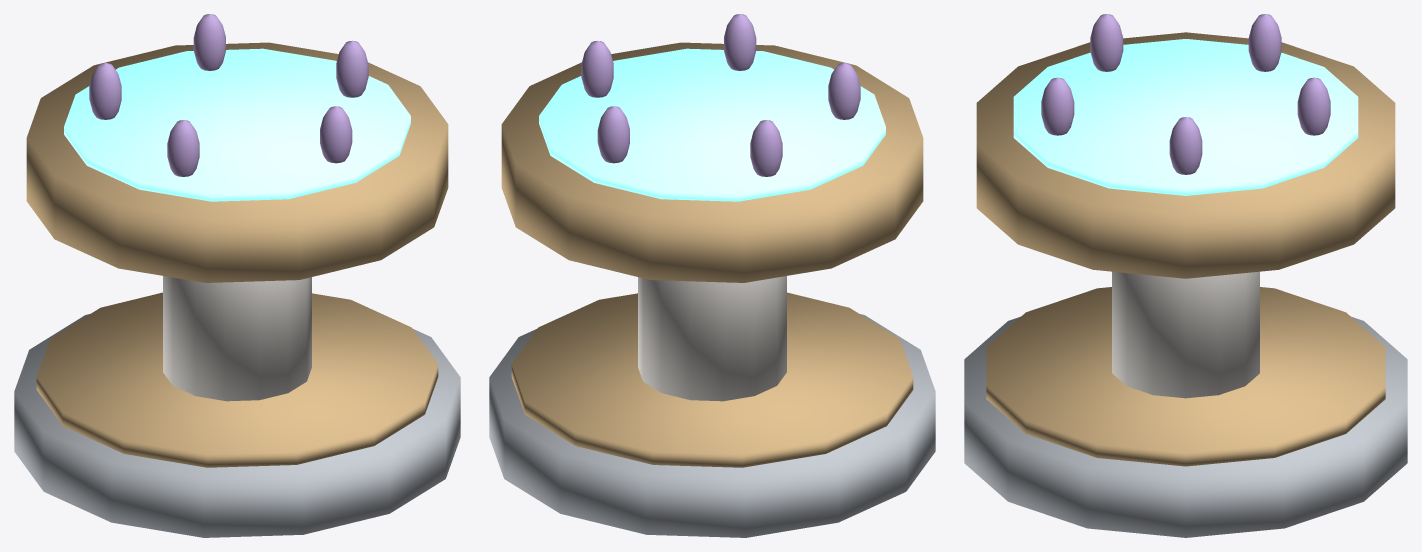
The model's file is int_echo_bowl.glb.
The picture shows the model from 3 angles, left to right: view 1: azimuth 30°, elevation 25°; view 2: azimuth 150°, elevation 25°; view 3: azimuth 270°, elevation 25°; orthographic projection.
Visible parts, largest first — view 1: INT_echo_bowl_gold_bowl, INT_echo_bowl_gold, INT_echo_bowl_aether_water, INT_echo_bowl_base, INT_echo_bowl_stand, INT_echo_bowl_surface_note_0, INT_echo_bowl_surface_note_1, INT_echo_bowl_surface_note_2, INT_echo_bowl_surface_note_4, INT_echo_bowl_surface_note_3; view 2: INT_echo_bowl_gold_bowl, INT_echo_bowl_gold, INT_echo_bowl_aether_water, INT_echo_bowl_base, INT_echo_bowl_stand, INT_echo_bowl_surface_note_0, INT_echo_bowl_surface_note_4, INT_echo_bowl_surface_note_1, INT_echo_bowl_surface_note_3, INT_echo_bowl_surface_note_2; view 3: INT_echo_bowl_gold_bowl, INT_echo_bowl_gold, INT_echo_bowl_aether_water, INT_echo_bowl_base, INT_echo_bowl_stand, INT_echo_bowl_surface_note_0, INT_echo_bowl_surface_note_1, INT_echo_bowl_surface_note_2, INT_echo_bowl_surface_note_3, INT_echo_bowl_surface_note_4.
Part boxes in pixels (left/top/right/bottom): INT_echo_bowl_gold_bowl: left=26, top=42, right=448, bottom=282; INT_echo_bowl_gold: left=36, top=292, right=438, bottom=467; INT_echo_bowl_aether_water: left=64, top=48, right=410, bottom=201; INT_echo_bowl_base: left=14, top=314, right=460, bottom=537; INT_echo_bowl_stand: left=163, top=276, right=311, bottom=401; INT_echo_bowl_surface_note_0: left=336, top=40, right=368, bottom=97; INT_echo_bowl_surface_note_1: left=193, top=14, right=225, bottom=70; INT_echo_bowl_surface_note_2: left=89, top=63, right=121, bottom=119; INT_echo_bowl_surface_note_4: left=320, top=106, right=352, bottom=163; INT_echo_bowl_surface_note_3: left=167, top=120, right=199, bottom=176; INT_echo_bowl_gold_bowl: left=501, top=42, right=923, bottom=282; INT_echo_bowl_gold: left=511, top=292, right=913, bottom=467; INT_echo_bowl_aether_water: left=539, top=48, right=885, bottom=201; INT_echo_bowl_base: left=489, top=314, right=935, bottom=537; INT_echo_bowl_stand: left=638, top=276, right=786, bottom=401; INT_echo_bowl_surface_note_0: left=581, top=40, right=613, bottom=97; INT_echo_bowl_surface_note_4: left=724, top=14, right=756, bottom=70; INT_echo_bowl_surface_note_1: left=597, top=106, right=629, bottom=163; INT_echo_bowl_surface_note_3: left=828, top=63, right=860, bottom=119; INT_echo_bowl_surface_note_2: left=750, top=120, right=782, bottom=176; INT_echo_bowl_gold_bowl: left=976, top=32, right=1395, bottom=278; INT_echo_bowl_gold: left=986, top=287, right=1385, bottom=466; INT_echo_bowl_aether_water: left=1013, top=39, right=1358, bottom=195; INT_echo_bowl_base: left=964, top=316, right=1407, bottom=537; INT_echo_bowl_stand: left=1112, top=271, right=1259, bottom=398; INT_echo_bowl_surface_note_0: left=1169, top=117, right=1202, bottom=174; INT_echo_bowl_surface_note_1: left=1297, top=77, right=1330, bottom=135; INT_echo_bowl_surface_note_2: left=1248, top=14, right=1281, bottom=71; INT_echo_bowl_surface_note_3: left=1090, top=14, right=1123, bottom=71; INT_echo_bowl_surface_note_4: left=1041, top=77, right=1074, bottom=135.
Bounding box in the file's own units: 1.08 × 1 × 1.05.
